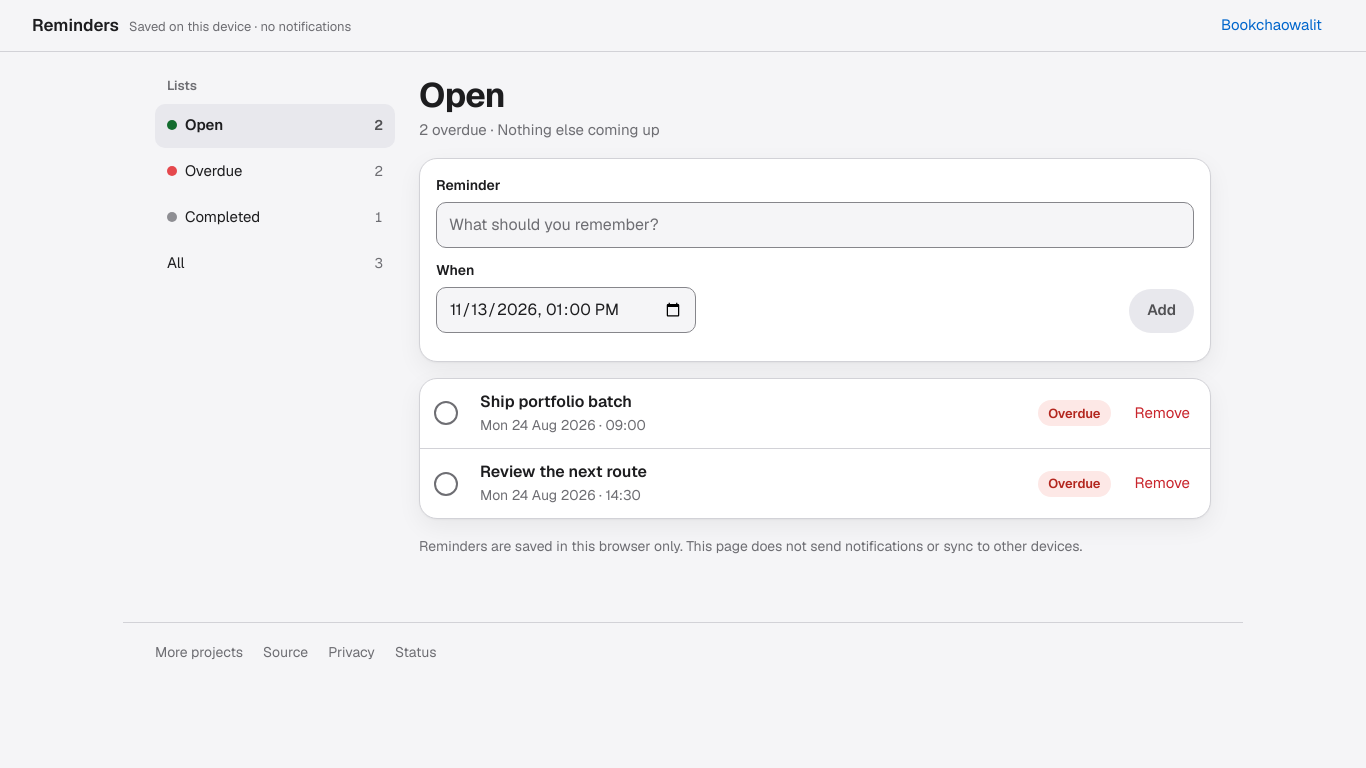
Test: batch Undo › consecutive removes restore together with one Undo
What coordinates should you click on to do the following:
click the button with aria-label "Remove Review the next route"
I would click on:
 (1162, 484)
Its box is [1123,462,1202,506].
Wait 4000 ms
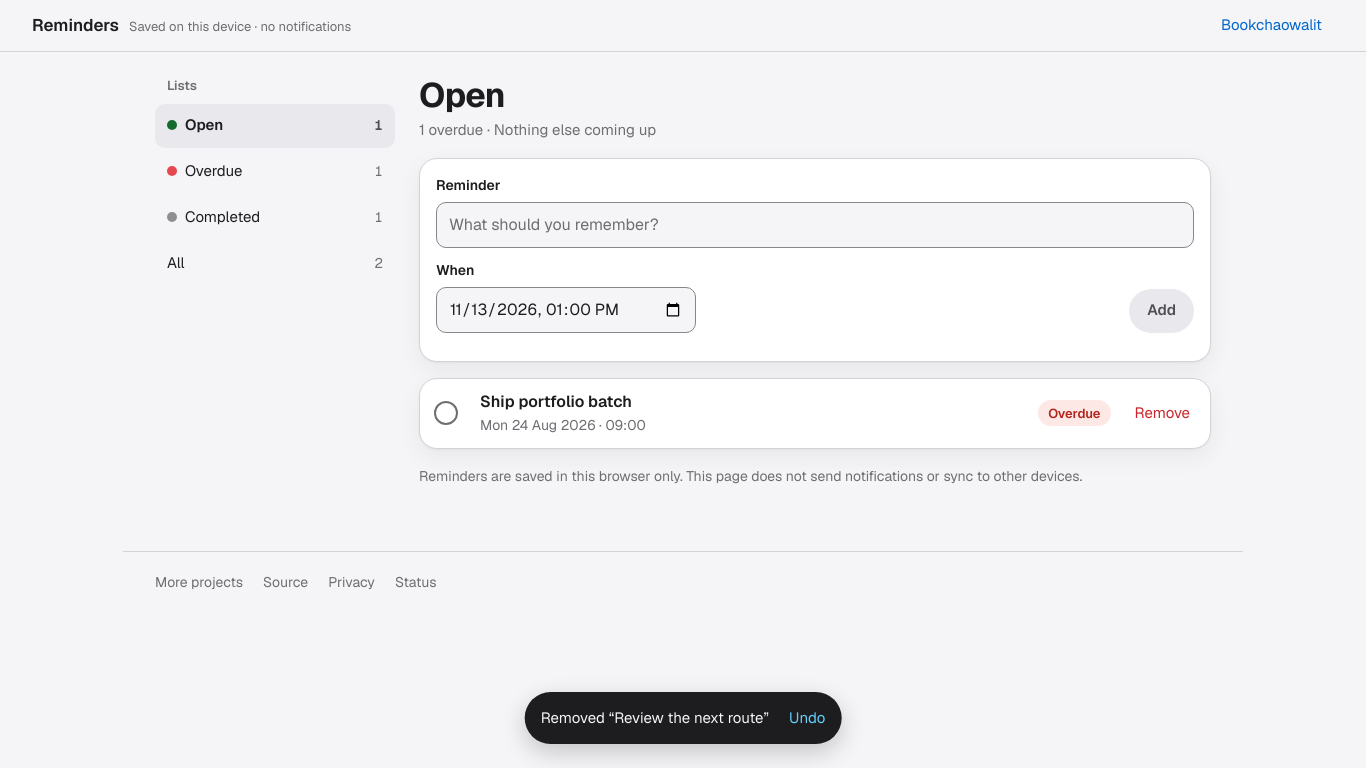
What coordinates should you click on to do the following:
click the button with aria-label "Remove Ship portfolio batch"
I would click on:
 (1162, 413)
Its box is [1123,391,1202,435].
Wait 4000 ms
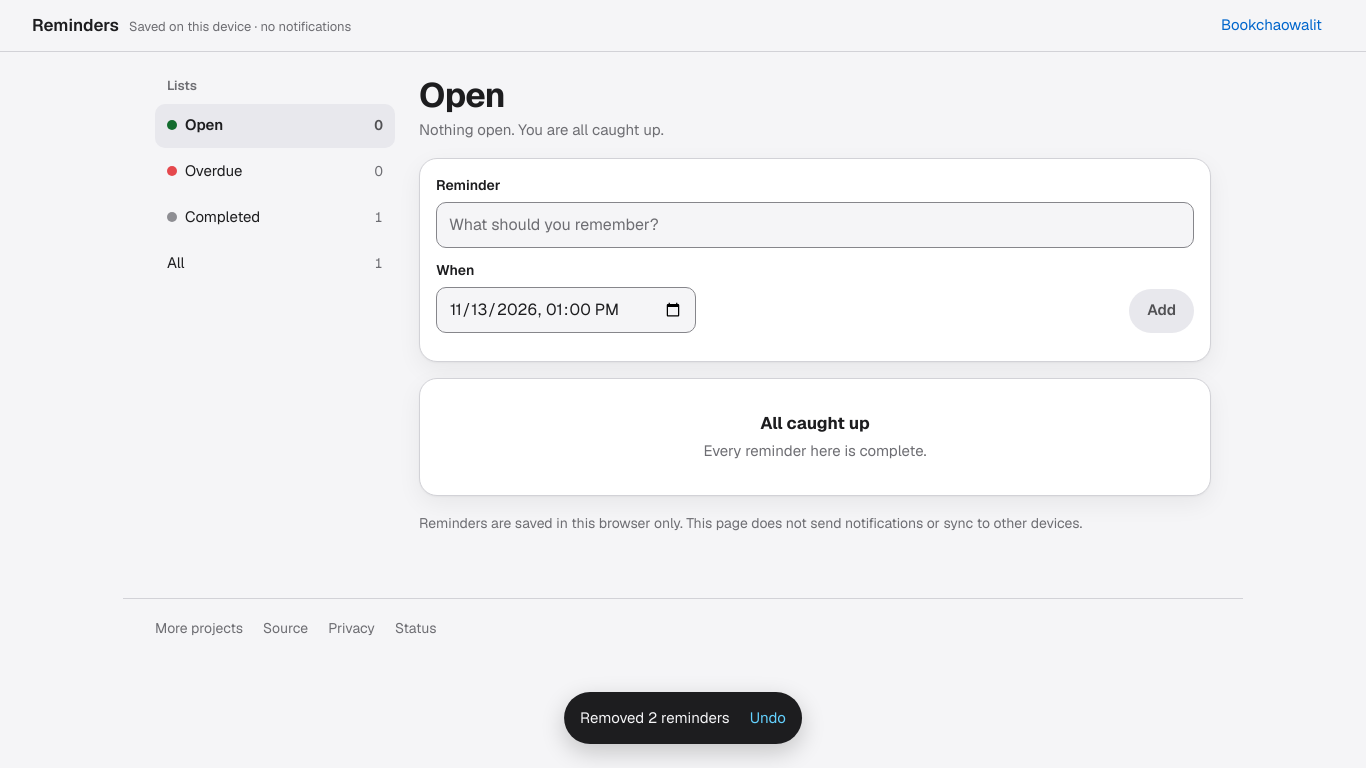
Now the text "Removed 2 reminders" is shown, box [580,707,730,729]
What coordinates should you click on to do the following:
click the button "Undo"
I would click on:
 (768, 718)
Its box is [738,696,798,740].
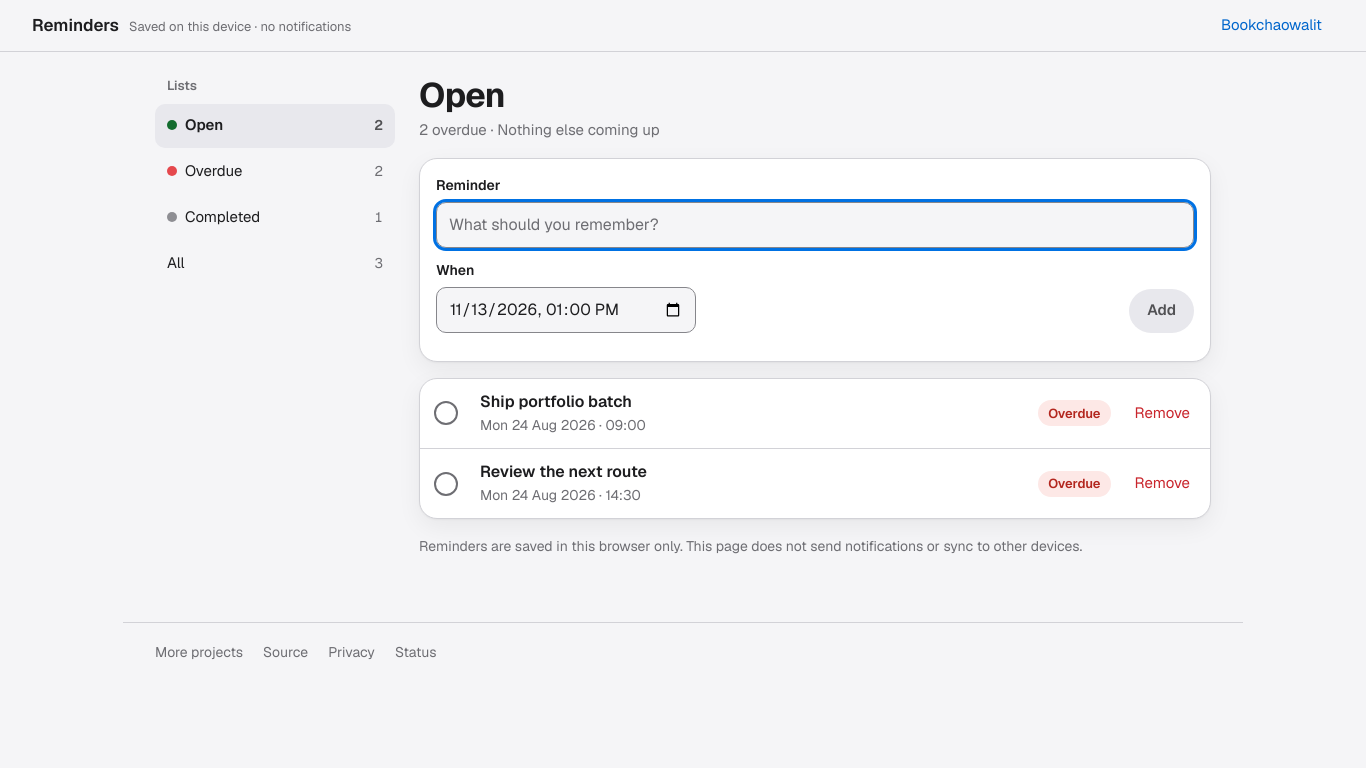
Now the element with class "as-toast" is gone
